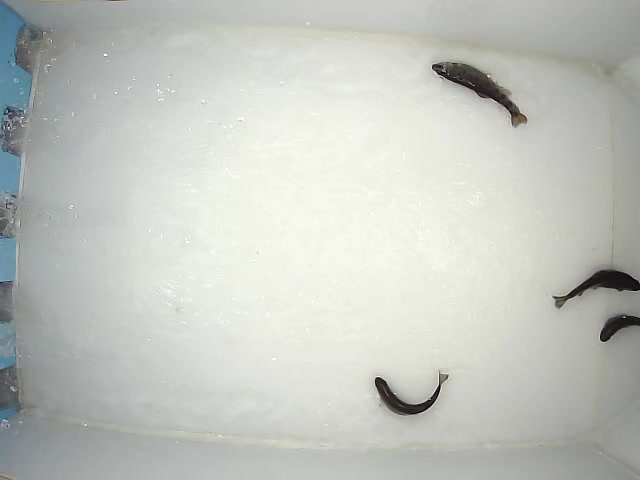fish: (429, 61, 530, 130), (549, 266, 640, 312), (372, 369, 449, 417), (598, 313, 640, 344)
